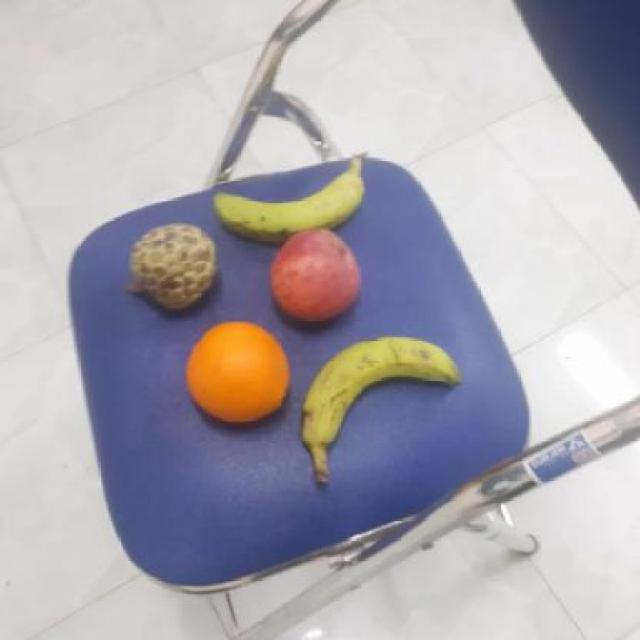apple: (268, 226, 368, 325)
banana: (297, 333, 461, 444), (212, 159, 370, 239)
oren: (183, 320, 294, 428)
sugar apple: (123, 218, 219, 310)
